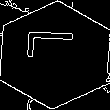L_E: (26, 38, 84, 72)
